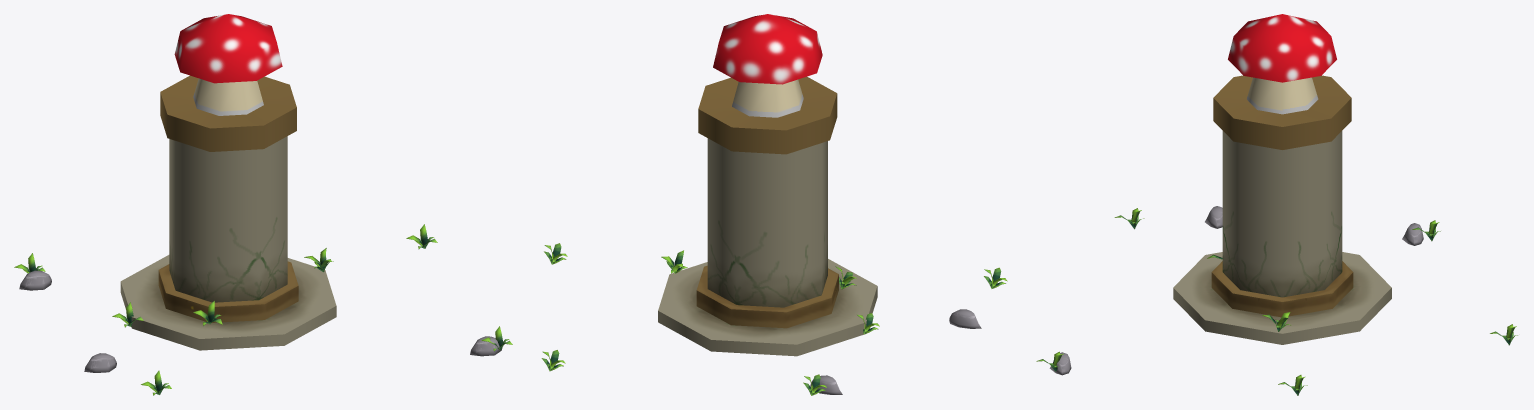
File: statue.fbx
The picture shows the model from 3 angles, left to right: view 1: azimuth 30°, elevation 25°; view 2: azimuth 150°, elevation 25°; view 3: azimuth 270°, elevation 25°; orthographic projection. The views are drawn at different scales.
Parts seen in each view (by area): view 1: Circle, stone.002, stone.001, stone.003; view 2: Circle, stone.001; view 3: Circle.
Part boxes in pixels (x1,y1,x2,y2): Circle: (120, 14, 336, 350); stone.002: (19, 270, 51, 290); stone.001: (84, 353, 116, 372); stone.003: (470, 336, 502, 356); Circle: (658, 14, 877, 356); stone.001: (949, 309, 981, 328); Circle: (1173, 14, 1391, 344).
Size of the model in its own units: 404 by 287 by 442.
